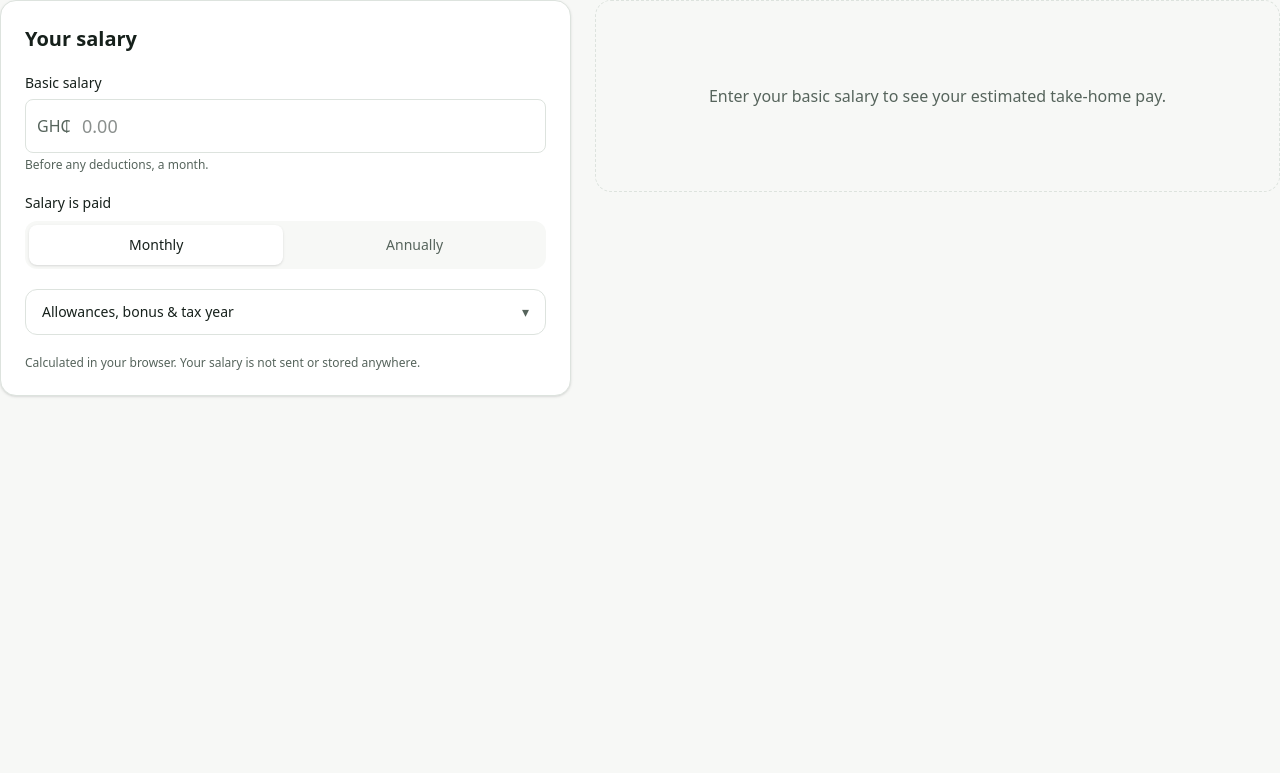
Test: SalaryCalculator › includes allowances and bonus from the advanced section
In the field labelled "Basic salary": x=285, y=126 25,99 -> 546,153, type "5000"
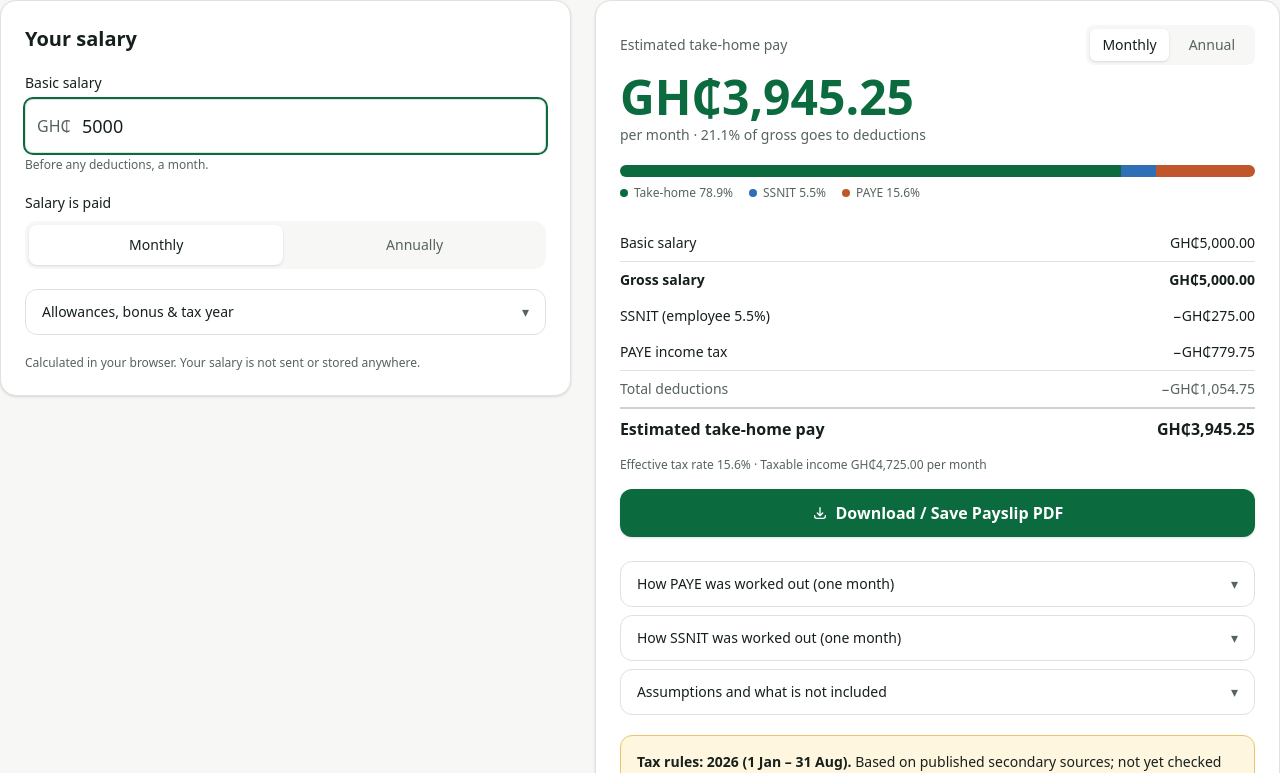
Click the heading "Allowances, bonus & tax year ▾": x=138, y=312 42,302 -> 529,321
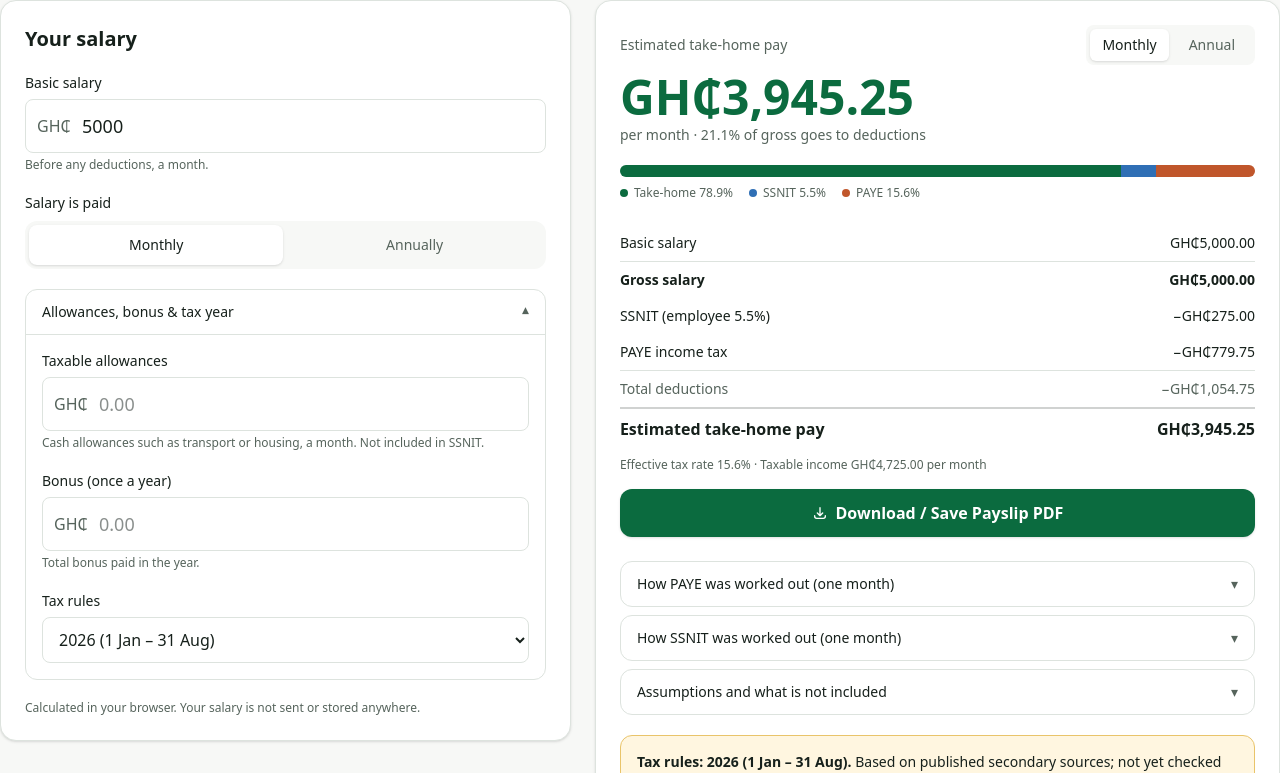
In the field labelled "Taxable allowances": x=285, y=404 42,377 -> 529,431, type "1000"
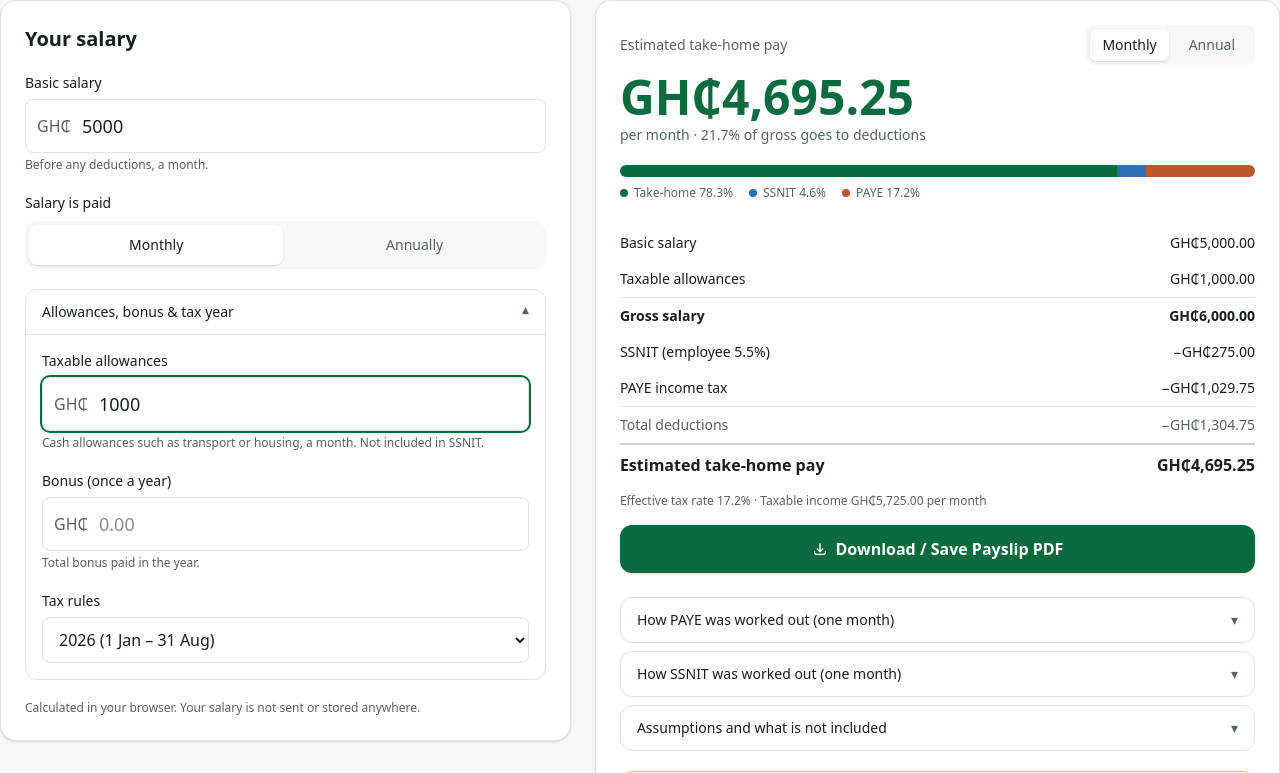
Now the text with test id "net-pay" reads "GH₵4,695.25", box 620,64 -> 914,129
In the field labelled "Bonus (once a year)": x=285, y=524 42,497 -> 529,551, type "6000"
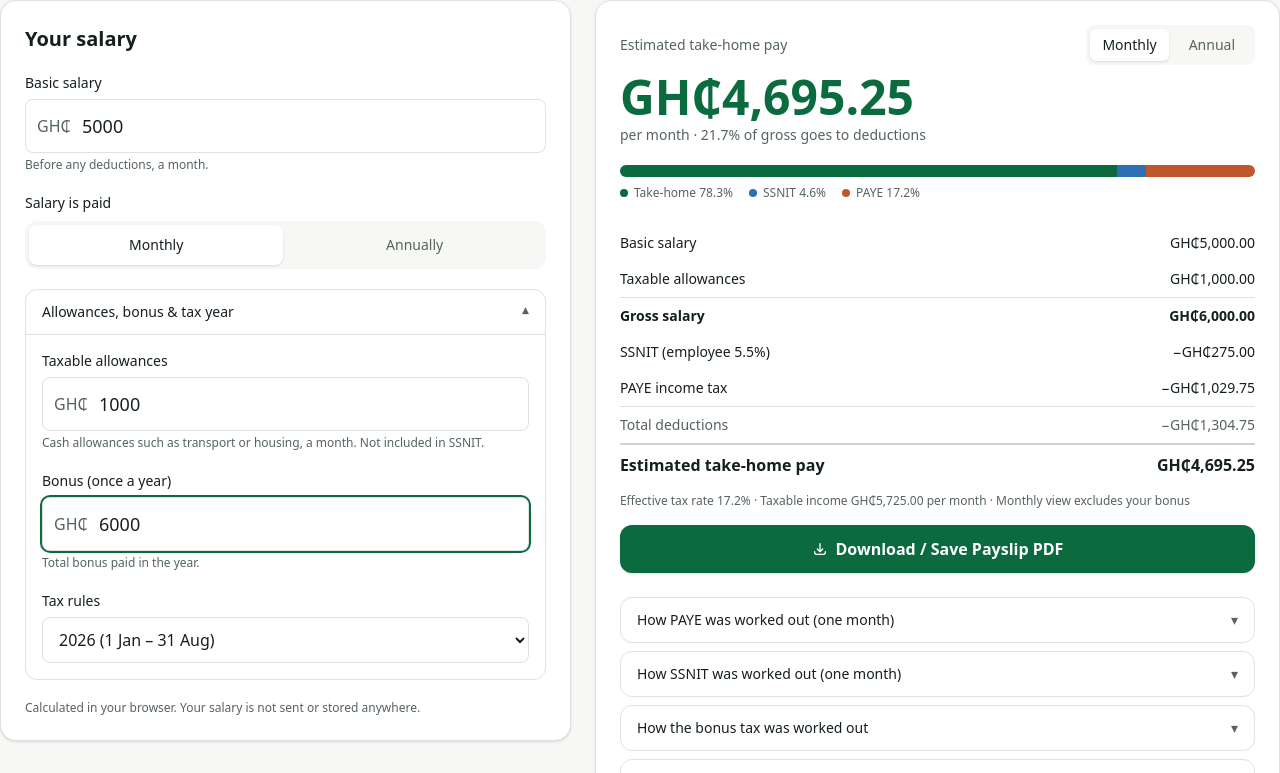
Click the button "Annual": x=1212, y=45 1173,29 -> 1251,61
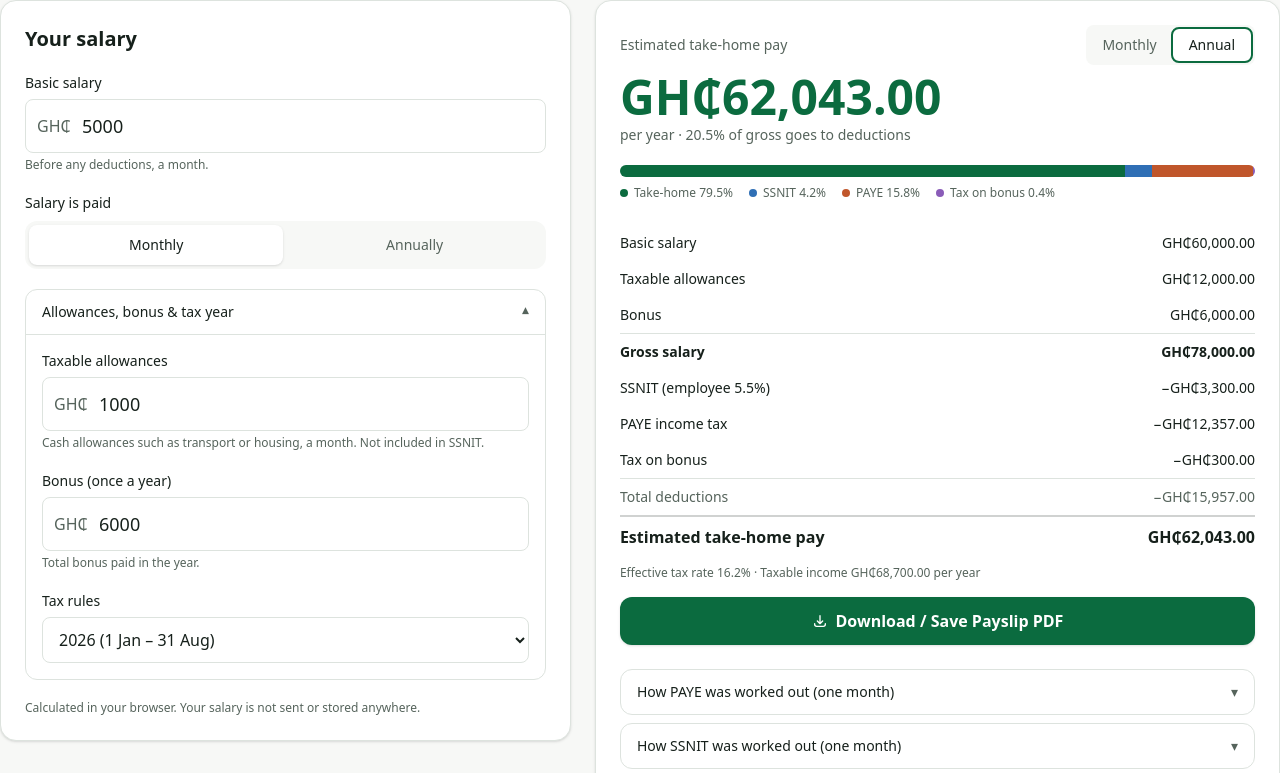
Now the cell "−GH₵300.00" is shown, box 1037,442 -> 1255,478
